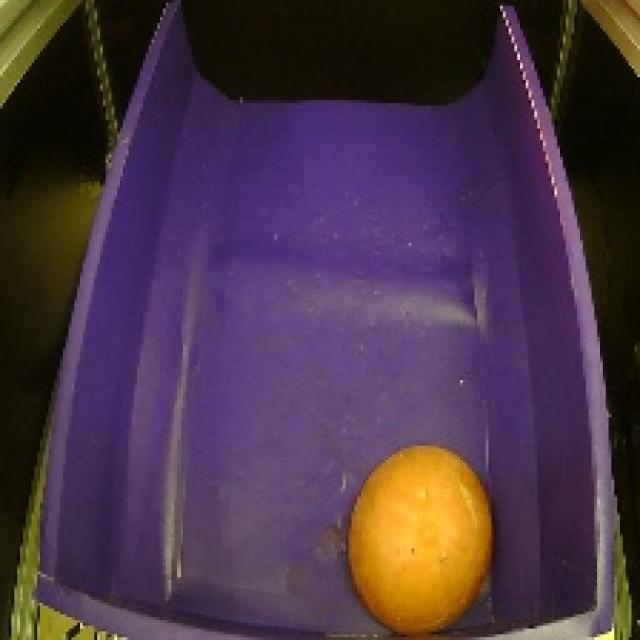carrots: (339, 433, 505, 640)
